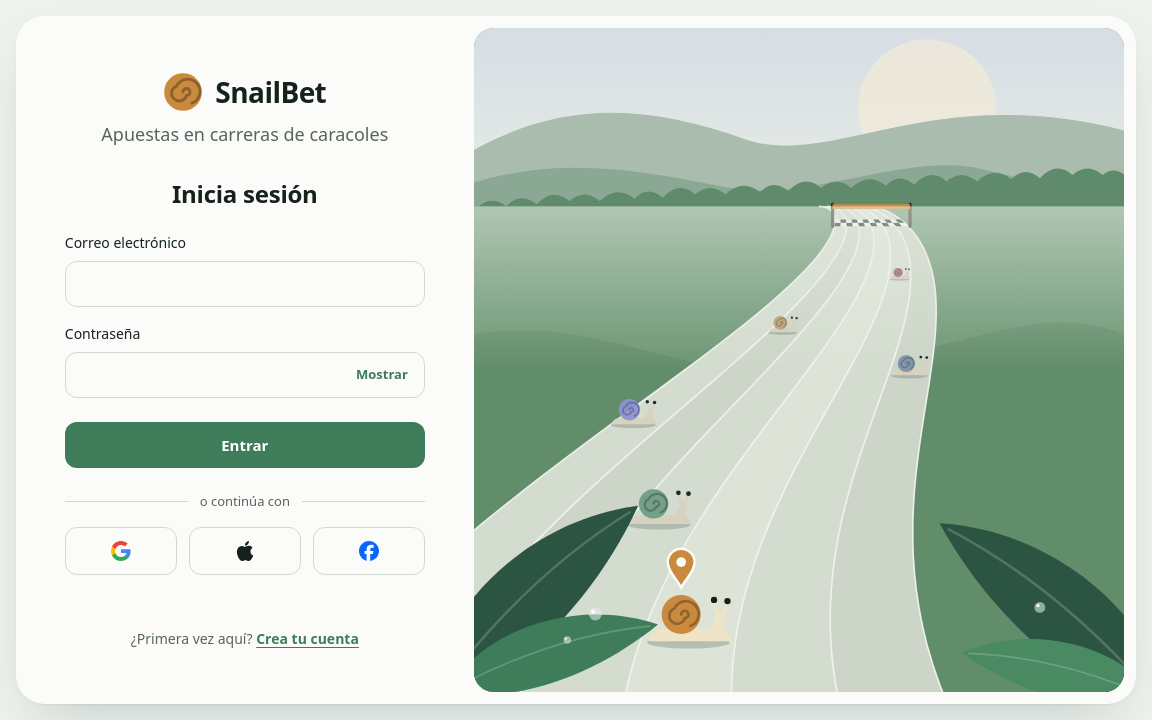
flujo de autenticación › con contraseña incorrecta muestra un error y no entra
This screenshot has width=1152, height=720.
In the field labelled "Correo electrónico": point(245, 284) [66, 262, 424, 306], type "nadie@correo.com"
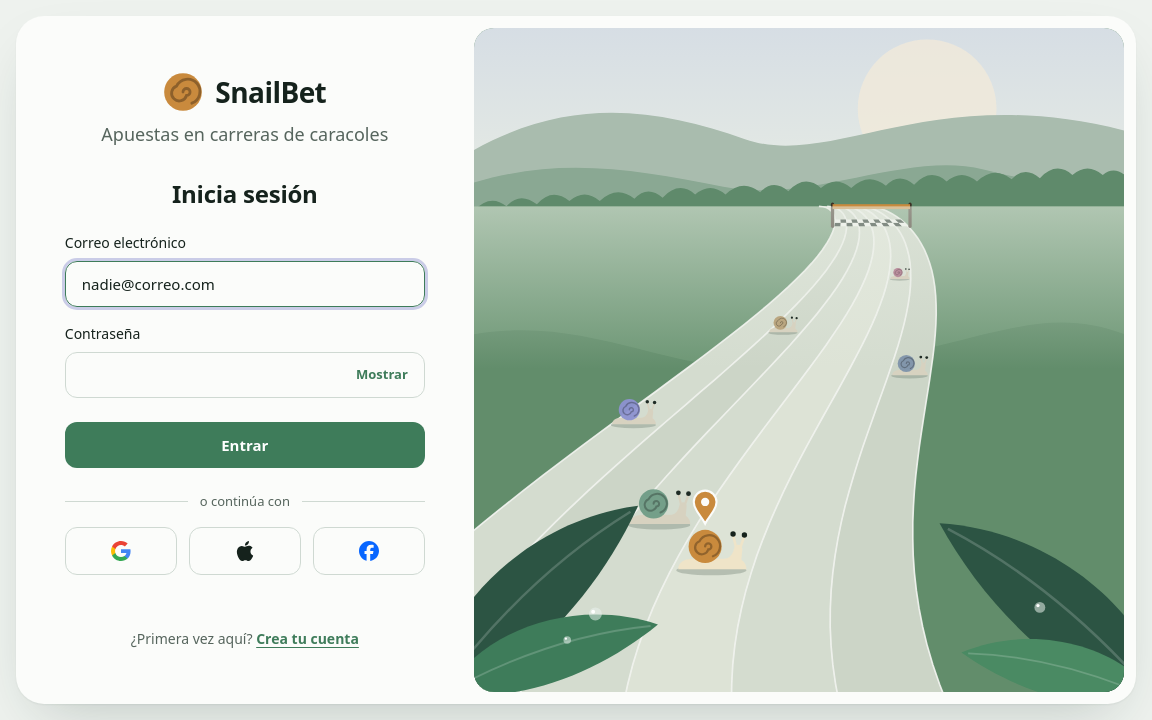
In the password field labelled "Contraseña": point(207, 375) [66, 353, 348, 397], type "caracol123"
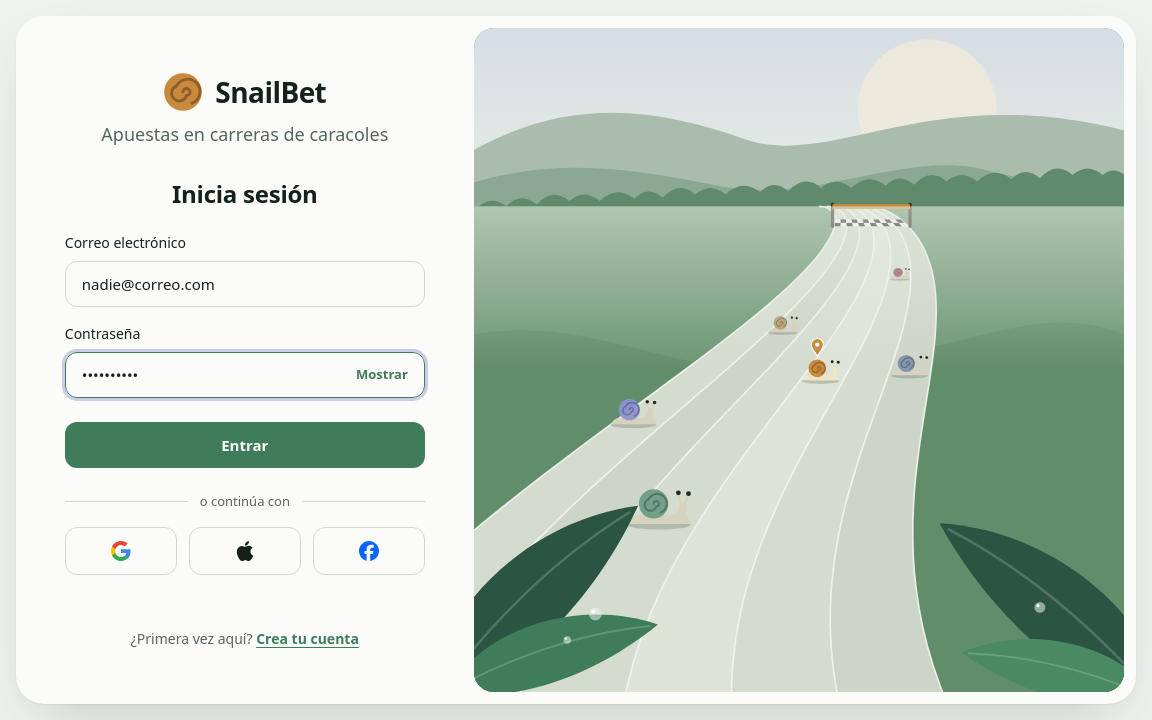
Click the button "Entrar": point(245, 445) [65, 422, 425, 468]
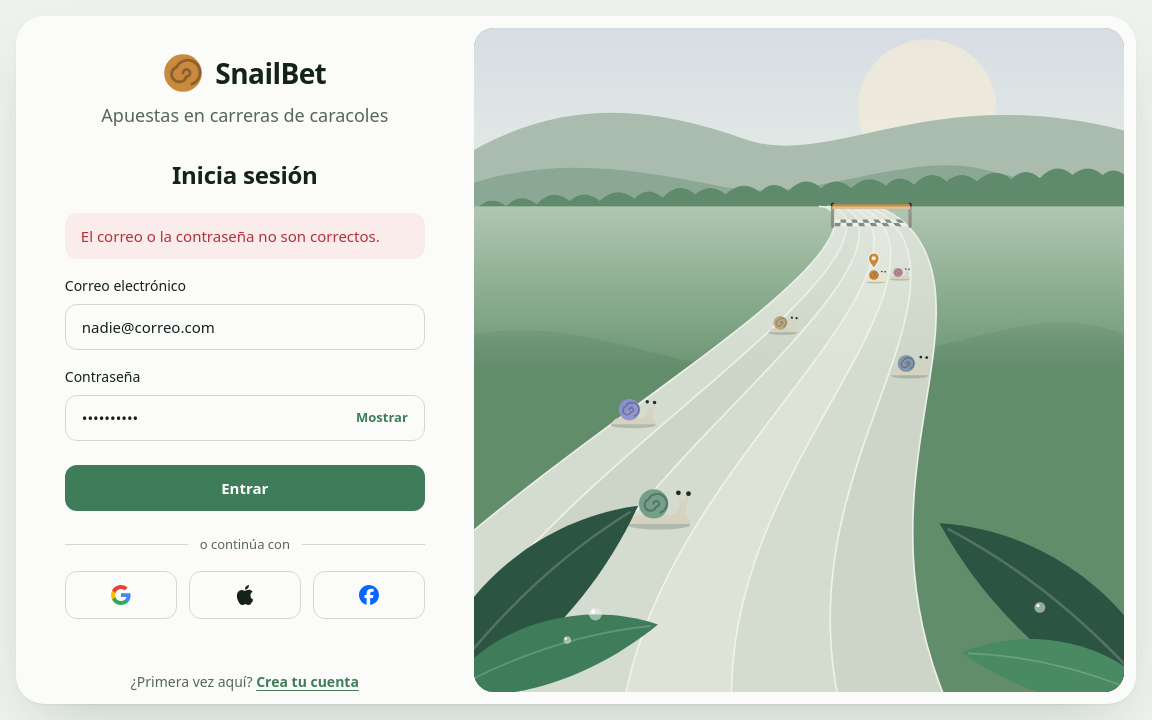
Now the message "El correo o la contraseña no son correctos." is shown, box [65, 213, 425, 259]
